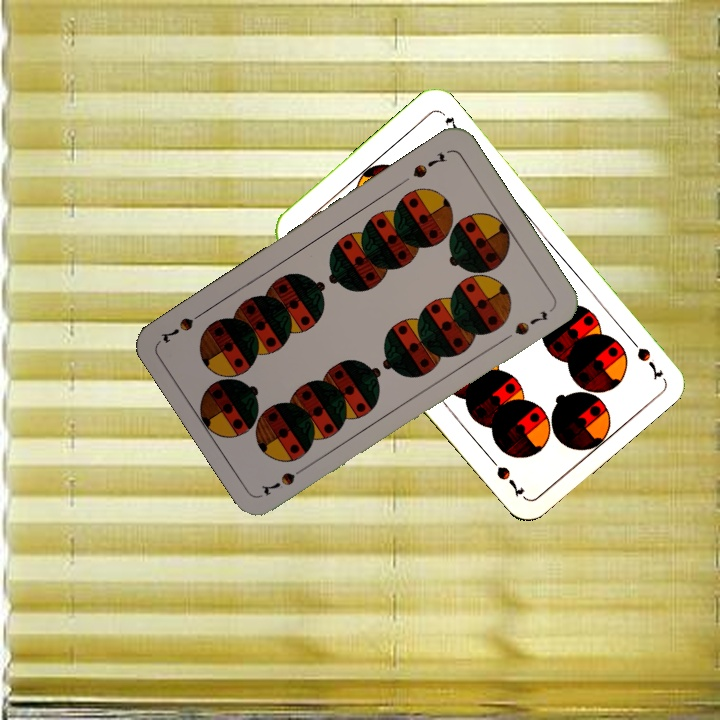S7: (622, 330, 666, 382), (257, 461, 312, 498), (408, 148, 450, 181)
